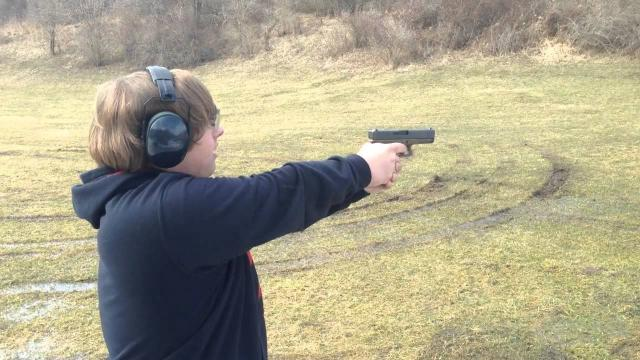handgun: (364, 124, 438, 162)
